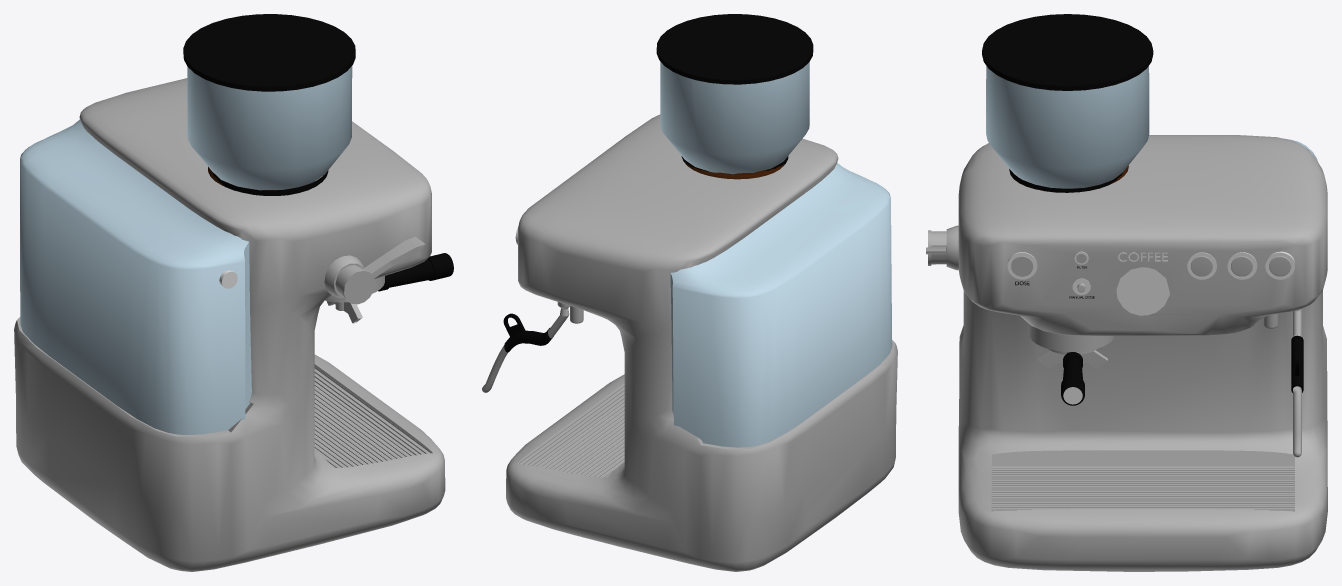
Rendered from Barista.fbx.
3 views of the same model, side by side, from view 1: azimuth 30°, elevation 25°; view 2: azimuth 150°, elevation 25°; view 3: azimuth 270°, elevation 25° (orthographic). The views are drawn at different scales.
Parts seen in each view (by area): view 1: Cube, Cube.003, Cylinder.020, Cylinder.022, Cube.004, Cylinder.021, Cube.008, Cylinder.006; view 2: Cube, Cube.003, Cylinder.020, Cylinder.022, Cube.004, Cube.008, BezierCurve.001, BezierCurve; view 3: Cube, Cylinder.020, Cube.004, Cylinder.022, Cube.008, Cylinder.024, Cylinder.003, Cylinder.021, Cylinder.010, BezierCurve, Cylinder.006, Cylinder.008 (+1 smaller).
Part boxes in pixels (x1,y1,x2,y2): Cube: (14,78,445,571); Cube.003: (20,119,251,434); Cylinder.020: (187,66,352,190); Cylinder.022: (183,14,355,195); Cube.004: (314,367,430,467); Cylinder.021: (324,236,425,304); Cube.008: (314,364,432,467); Cylinder.006: (378,253,453,291); Cube: (506,114,897,571); Cube.003: (670,162,892,447); Cylinder.020: (660,62,809,174); Cylinder.022: (656,14,813,171); Cube.004: (519,386,624,477); Cube.008: (517,383,624,476); BezierCurve.001: (504,328,553,352); BezierCurve: (482,315,568,392); Cube: (958,135,1327,571); Cylinder.020: (986,66,1149,188); Cube.004: (991,466,1294,511); Cylinder.022: (982,14,1153,192); Cube.008: (991,450,1294,510); Cylinder.024: (1116,267,1169,315); Cylinder.003: (1029,324,1114,351); Cylinder.021: (926,225,958,270); Cylinder.010: (1187,251,1294,279); BezierCurve: (1293,310,1301,457); Cylinder.006: (1061,352,1084,405); Cylinder.008: (1038,348,1107,368).
Size of the model in its own units: 207 by 277 by 218.
